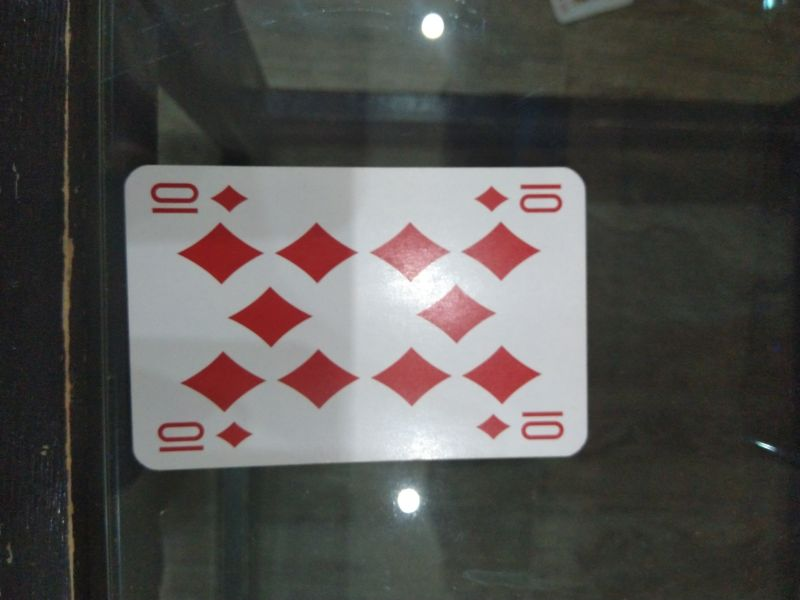Td: (142, 177, 251, 219), (472, 174, 570, 217), (470, 406, 572, 447), (154, 415, 257, 455)
